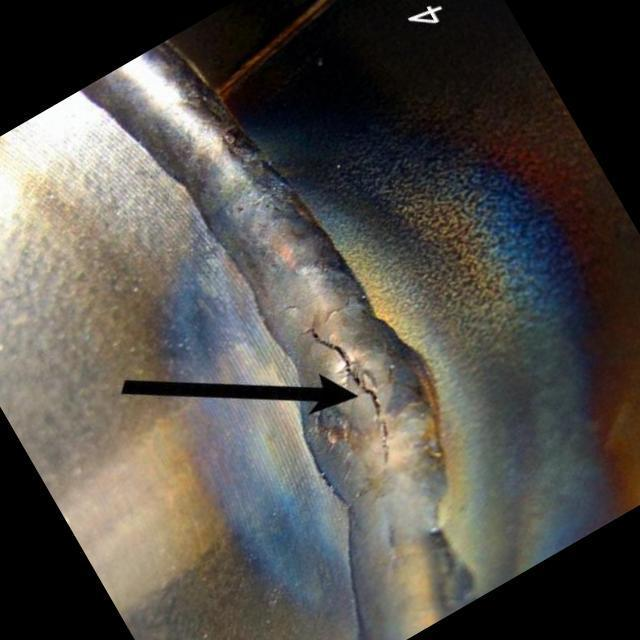defect: (291, 321, 394, 467)
